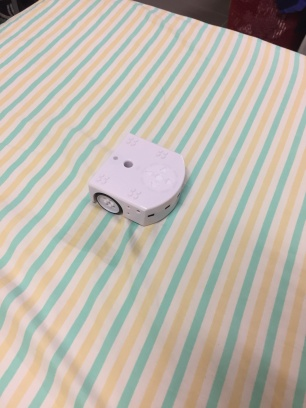thymio: (80, 126, 196, 233)
